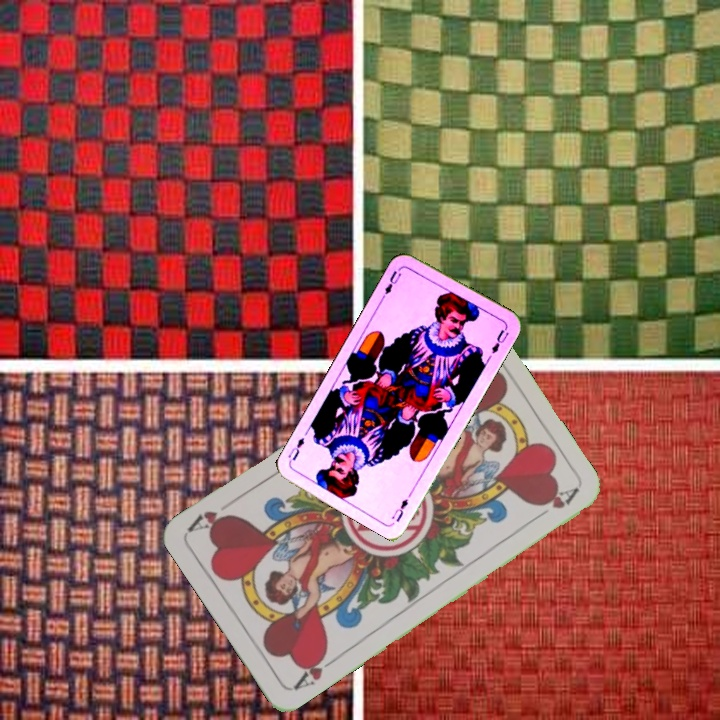EU: (378, 266, 404, 301), (387, 495, 411, 524)
HA: (289, 647, 341, 693)
